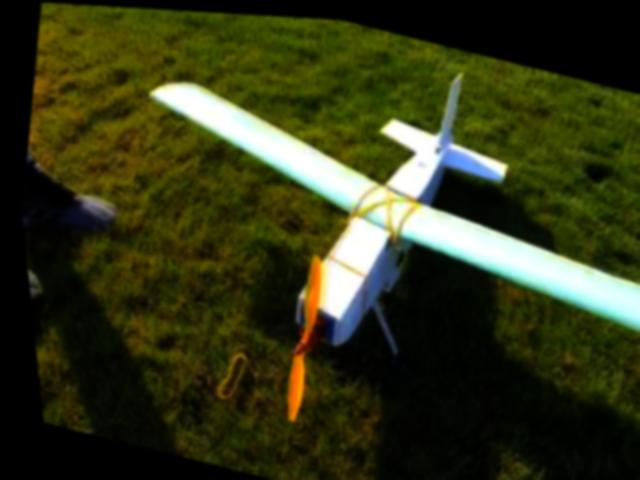uav: (99, 5, 640, 425)
